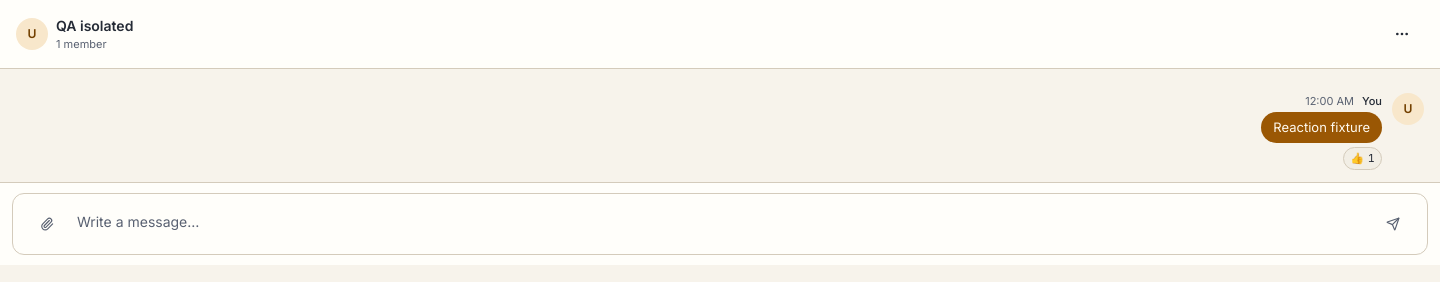
Test: clears stale thread content when a send is rejected after removal
This screenshot has width=1440, height=282.
Expected: the text "Reaction fixture" is shown, x1=1261 y1=112 x2=1382 y2=143
Type "After removal" into the text box with placeholder "Write a message…".
click(720, 224); type("After removal")  # box x1=77 y1=202 x2=1363 y2=246
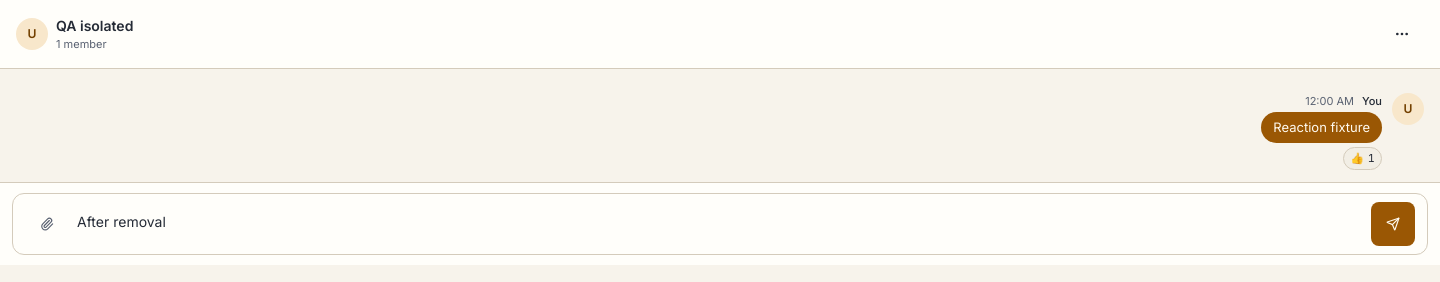
Click the button named "Send message".
click(1393, 224)  # box x1=1371 y1=202 x2=1415 y2=246
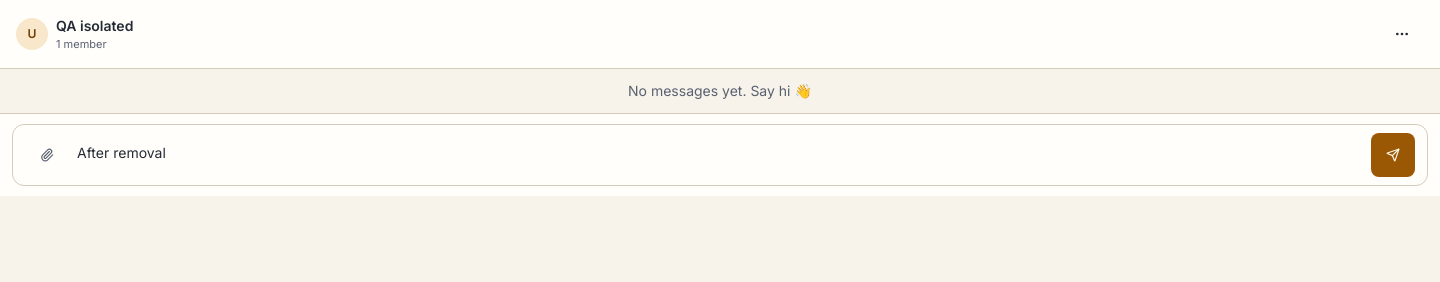
Now the text "Reaction fixture" is gone
